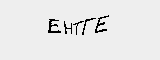Г: (81, 16, 96, 37)
Е: (45, 16, 62, 35), (94, 14, 110, 33)
Н: (63, 19, 73, 39)
Т: (71, 19, 84, 37)
